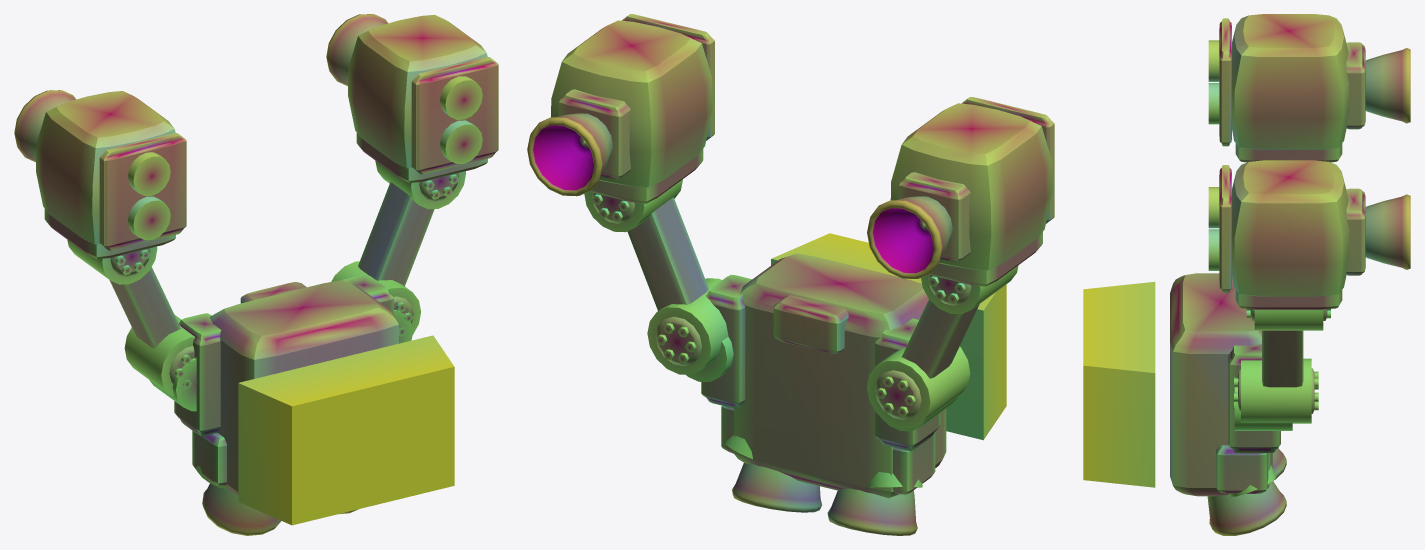
The model's file is llm_gen_dorsal_pack_056_e0f8ba.glb.
The picture shows the model from 3 angles, left to right: view 1: azimuth 30°, elevation 25°; view 2: azimuth 150°, elevation 25°; view 3: azimuth 270°, elevation 25°; orthographic projection. The views are drawn at different scales.
Parts seen in each view (by area): view 1: mounting_dovetail_plug, adapter_dorsal_spine_dark, salvo_pod_box_6_cobalt_anodized_l, salvo_pod_box_6_cobalt_anodized_r, salvo_face_frame_7_optic_cyan_r, salvo_face_frame_7_optic_cyan_l, salvo_mount_pylon_2_adapter_dark_r, adapter_dorsal_outrigger_dark_l, salvo_mount_pylon_2_adapter_dark_l, adapter_sub_pylon_drum_dark_0_adapter_dark_l, lower_boost_bell_12_vernier_bell_vernier_l, exhaust_vernier_11_vernier_bell_vernier_l (+13 smaller); view 2: adapter_dorsal_spine_dark, salvo_pod_box_6_cobalt_anodized_l, salvo_pod_box_6_cobalt_anodized_r, mounting_dovetail_plug, exhaust_vernier_11_vernier_bell_vernier_r, exhaust_vernier_11_vernier_bell_vernier_l, salvo_mount_pylon_2_adapter_dark_r, adapter_sub_pylon_drum_dark_0_adapter_dark_l, adapter_dorsal_outrigger_dark_r, adapter_dorsal_latch_gold, lower_boost_bell_12_vernier_bell_vernier_l, salvo_mount_pylon_2_adapter_dark_l (+15 smaller); view 3: salvo_pod_box_6_cobalt_anodized_r, salvo_pod_box_6_cobalt_anodized_l, mounting_dovetail_plug, adapter_dorsal_spine_dark, adapter_sub_pylon_drum_dark_0_adapter_dark_r, exhaust_vernier_11_vernier_bell_vernier_l, exhaust_vernier_11_vernier_bell_vernier_r, lower_boost_bell_12_vernier_bell_vernier_r, salvo_mount_pylon_2_adapter_dark_r, adapter_dorsal_outrigger_dark_r, adapter_lower_tank_pylon_dark_14_adapter_dark_r, salvo_face_frame_7_optic_cyan_l (+11 smaller).
Part boxes in pixels (x1,y1,x2,y2): mounting_dovetail_plug: (238, 335, 454, 525); adapter_dorsal_spine_dark: (210, 280, 398, 495); salvo_pod_box_6_cobalt_anodized_l: (36, 91, 175, 244); salvo_pod_box_6_cobalt_anodized_r: (348, 14, 487, 168); salvo_face_frame_7_optic_cyan_r: (411, 57, 498, 174); salvo_face_frame_7_optic_cyan_l: (99, 133, 186, 250); salvo_mount_pylon_2_adapter_dark_r: (358, 182, 434, 286); adapter_dorsal_outrigger_dark_l: (174, 313, 221, 436); salvo_mount_pylon_2_adapter_dark_l: (109, 267, 180, 348); adapter_sub_pylon_drum_dark_0_adapter_dark_l: (124, 315, 195, 396); lower_boost_bell_12_vernier_bell_vernier_l: (202, 483, 280, 535); exhaust_vernier_11_vernier_bell_vernier_l: (14, 90, 76, 162); adapter_dorsal_spine_dark: (734, 253, 946, 498); salvo_pod_box_6_cobalt_anodized_l: (890, 103, 1052, 270); salvo_pod_box_6_cobalt_anodized_r: (551, 20, 712, 187); mounting_dovetail_plug: (771, 233, 1006, 440); exhaust_vernier_11_vernier_bell_vernier_r: (527, 113, 612, 196); exhaust_vernier_11_vernier_bell_vernier_l: (867, 196, 952, 278); salvo_mount_pylon_2_adapter_dark_r: (627, 197, 708, 310); adapter_sub_pylon_drum_dark_0_adapter_dark_l: (867, 346, 970, 428); adapter_dorsal_outrigger_dark_r: (701, 274, 751, 408); adapter_dorsal_latch_gold: (773, 295, 848, 353); lower_boost_bell_12_vernier_bell_vernier_l: (827, 488, 917, 535); salvo_mount_pylon_2_adapter_dark_l: (902, 299, 979, 378); salvo_pod_box_6_cobalt_anodized_r: (1231, 160, 1349, 296); salvo_pod_box_6_cobalt_anodized_l: (1231, 14, 1349, 149); mounting_dovetail_plug: (1083, 281, 1155, 487); adapter_dorsal_spine_dark: (1170, 273, 1272, 496); adapter_sub_pylon_drum_dark_0_adapter_dark_r: (1241, 358, 1311, 423); exhaust_vernier_11_vernier_bell_vernier_l: (1365, 48, 1410, 123); exhaust_vernier_11_vernier_bell_vernier_r: (1365, 194, 1410, 269); lower_boost_bell_12_vernier_bell_vernier_r: (1207, 481, 1286, 535); salvo_mount_pylon_2_adapter_dark_r: (1262, 330, 1303, 387); adapter_dorsal_outrigger_dark_r: (1228, 344, 1280, 453); adapter_lower_tank_pylon_dark_14_adapter_dark_r: (1216, 445, 1268, 493); salvo_face_frame_7_optic_cyan_l: (1219, 18, 1231, 146).
Bounding box in the file's own units: 50.78 × 49.24 × 36.3.
